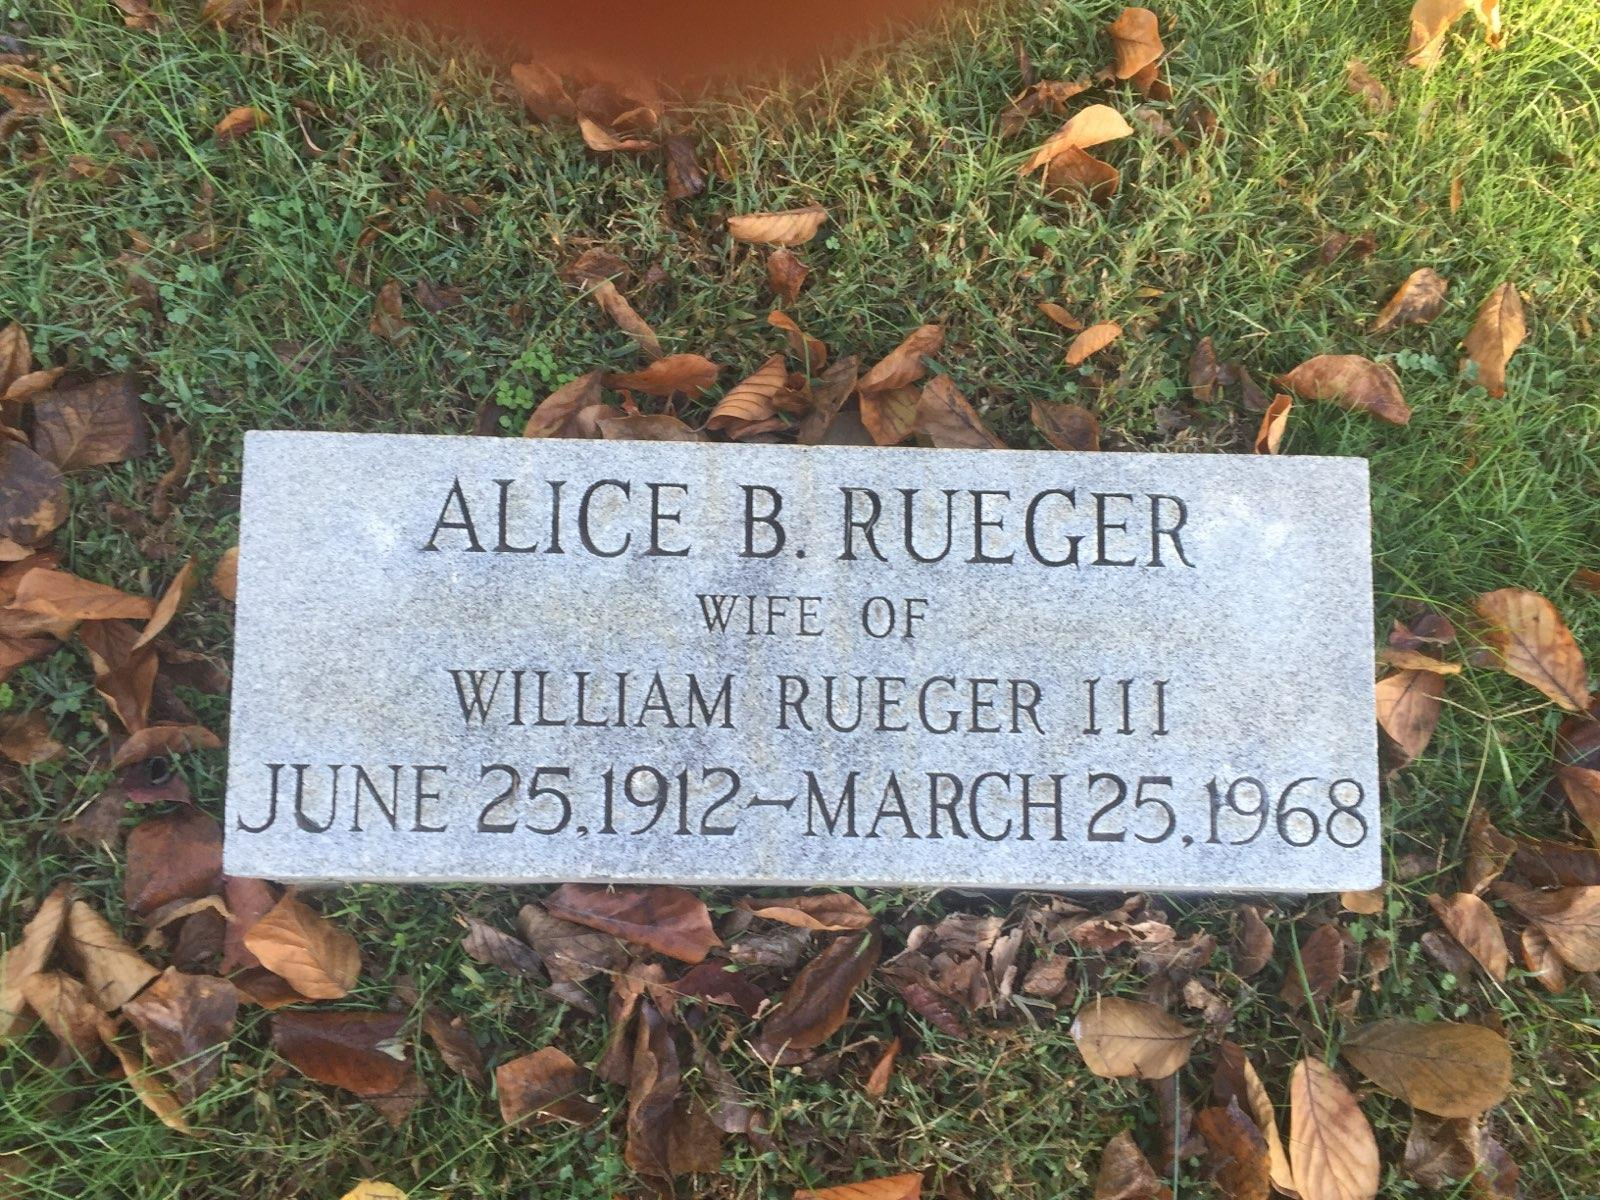flat: (219, 426, 1381, 894)
